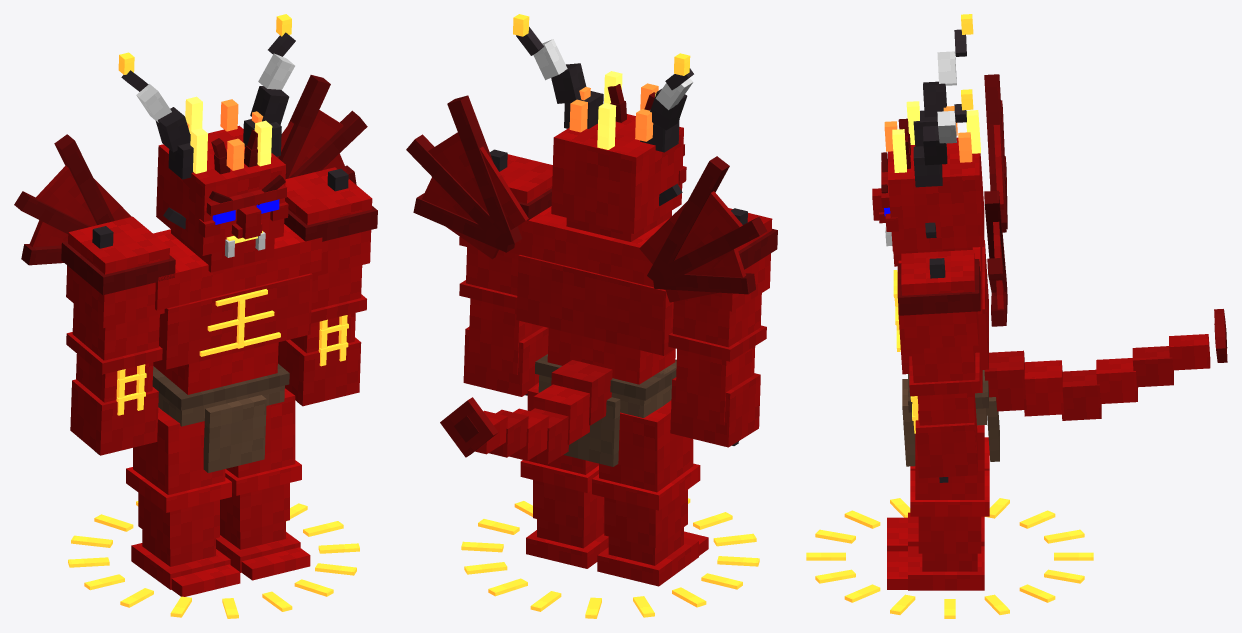
The model's file is demon_s1_evo3.glb.
The picture shows the model from 3 angles, left to right: view 1: azimuth 30°, elevation 25°; view 2: azimuth 150°, elevation 25°; view 3: azimuth 270°, elevation 25°; orthographic projection. The views are drawn at different scales.
Parts seen in each view (by area): view 1: Torso, Head, ArmR, ArmL, LegR, LegL, Root; view 2: Torso, Head, ArmR, LegR, ArmL, LegL, Root; view 3: Torso, Head, ArmL, LegL, Root, LegR.
Part boxes in pixels (box(x1,y1,x2,y2)): Torso: box(14, 75, 367, 472); Head: box(118, 14, 295, 272); ArmR: box(61, 216, 175, 455); ArmL: box(278, 167, 377, 406); LegR: box(126, 407, 240, 596); LegL: box(216, 388, 310, 580); Root: box(68, 501, 359, 618); Torso: box(406, 95, 767, 466); Head: box(513, 14, 693, 241); ArmR: box(668, 208, 777, 447); LegR: box(592, 400, 708, 586); ArmL: box(459, 149, 552, 396); LegL: box(520, 382, 608, 568); Root: box(461, 498, 759, 618); Torso: box(893, 74, 1227, 466); Head: box(872, 14, 984, 266); ArmL: box(897, 249, 980, 482); LegL: box(887, 425, 989, 590); Root: box(806, 498, 1093, 618); LegR: box(887, 437, 989, 551).
Size of the model in its own units: 1.58 by 2.25 by 1.7.
Materials: 32 (32 with a texture image).
